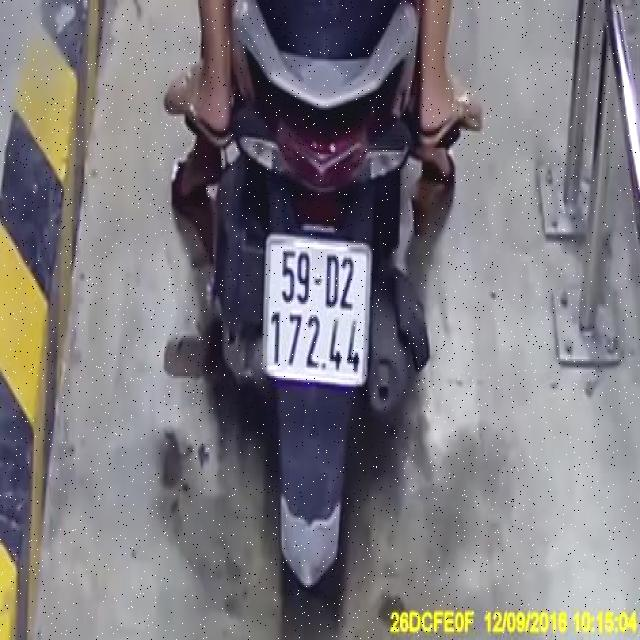1: (268, 309, 284, 365)
2: (338, 252, 358, 314), (307, 310, 321, 371)
4: (346, 319, 362, 372), (327, 318, 344, 366)
5: (278, 247, 296, 306)
7: (287, 312, 303, 368)
9: (295, 251, 313, 307)
D: (324, 248, 338, 309)
